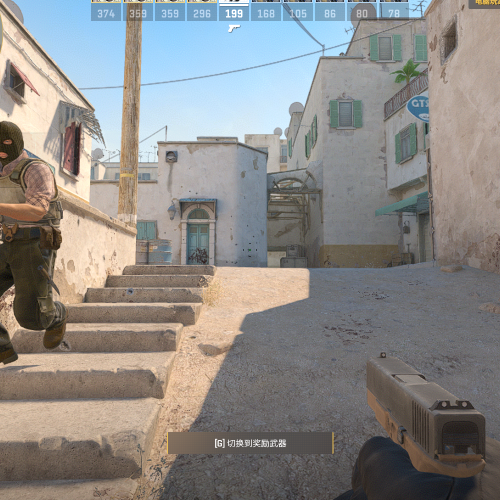t_body: (1, 120, 66, 361)
t_head: (0, 120, 24, 162)
